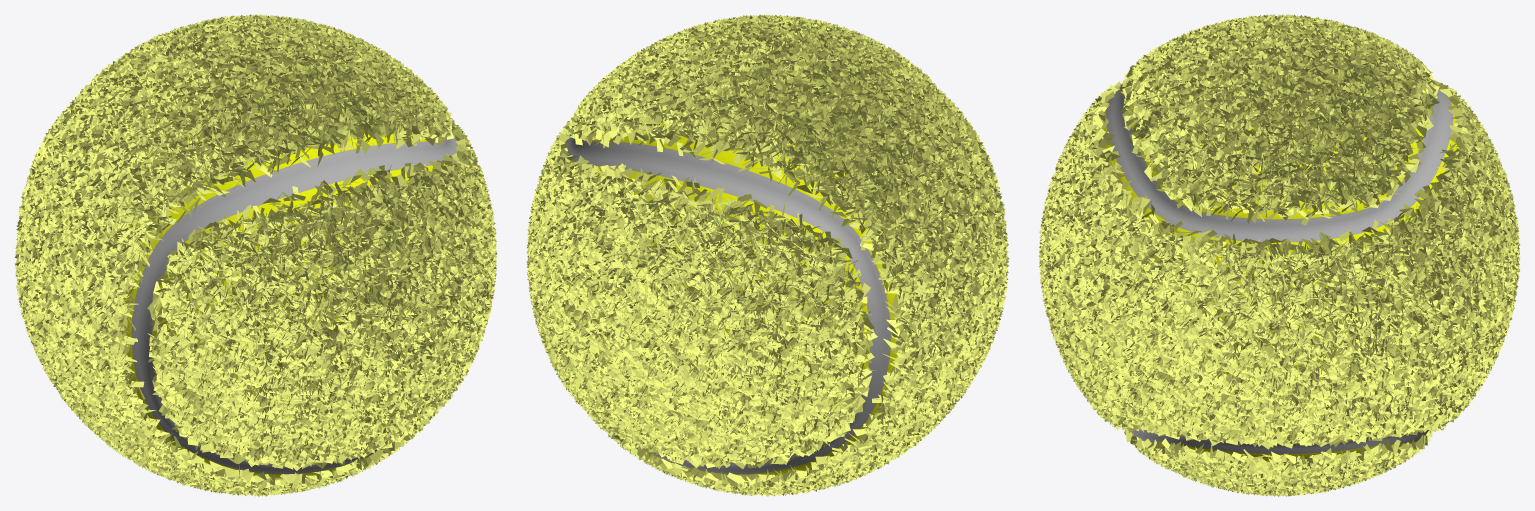
Rendered from tennis_ball_alt.fbx.
3 renders of one model, left to right at view 1: azimuth 30°, elevation 25°; view 2: azimuth 150°, elevation 25°; view 3: azimuth 270°, elevation 25°, orthographic.
Visible parts, largest first — view 1: Fuzz_Export; view 2: Fuzz_Export; view 3: Fuzz_Export.
Part boxes in pixels (<box>): Fuzz_Export: <box>14,14,497,496</box>; Fuzz_Export: <box>526,14,1009,496</box>; Fuzz_Export: <box>1038,14,1520,496</box>.
Bounding box in the file's own units: 169 × 169 × 169.
